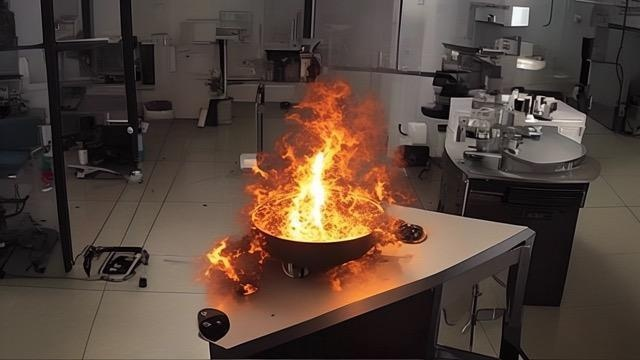fire: (216, 68, 419, 303)
